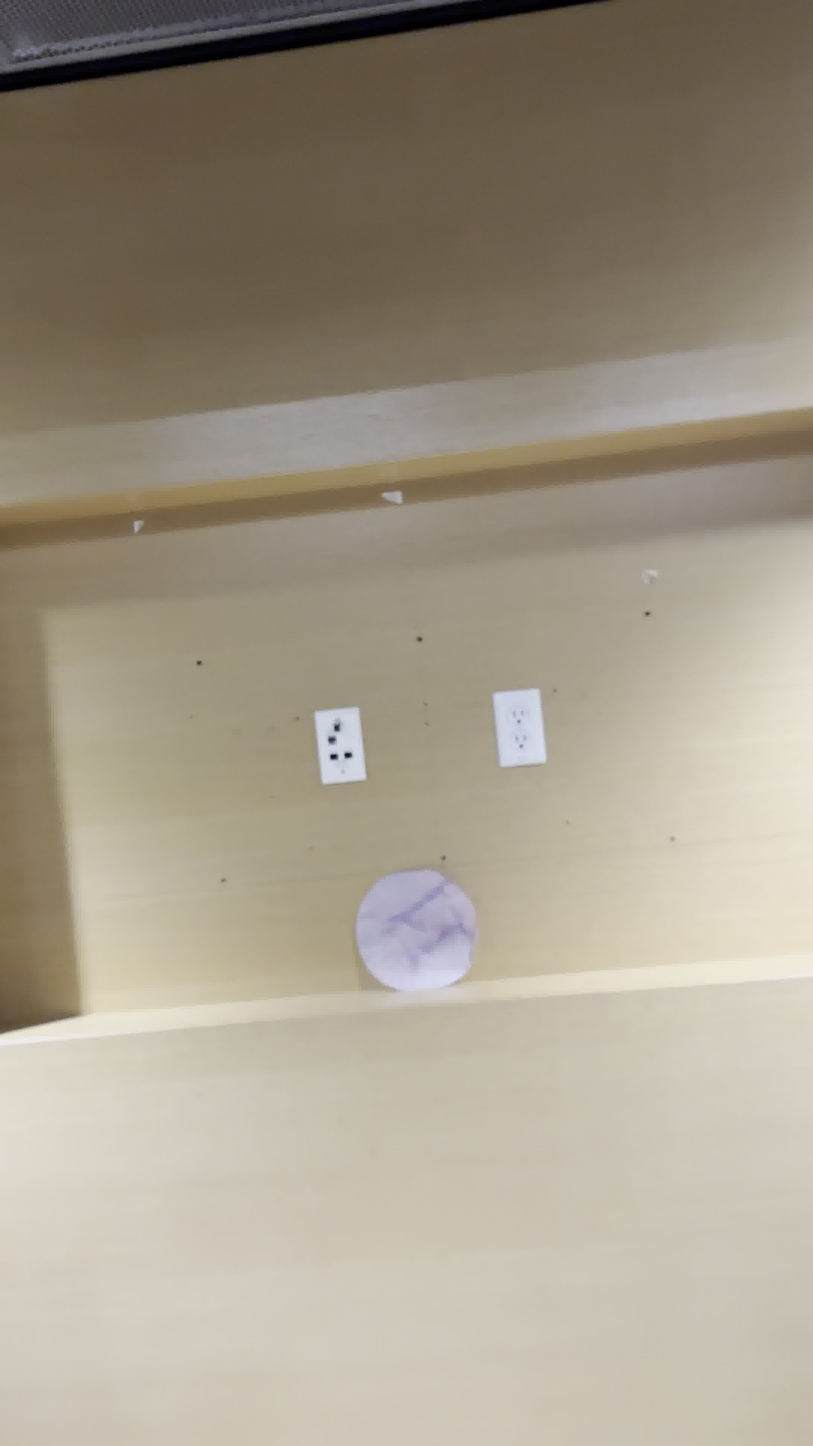Target: (352, 870, 480, 990)
